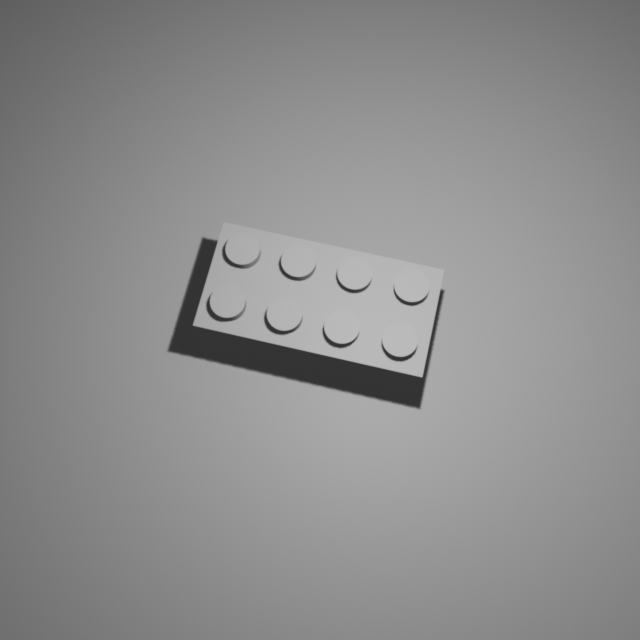lego_2x4: (191, 217, 446, 395)
